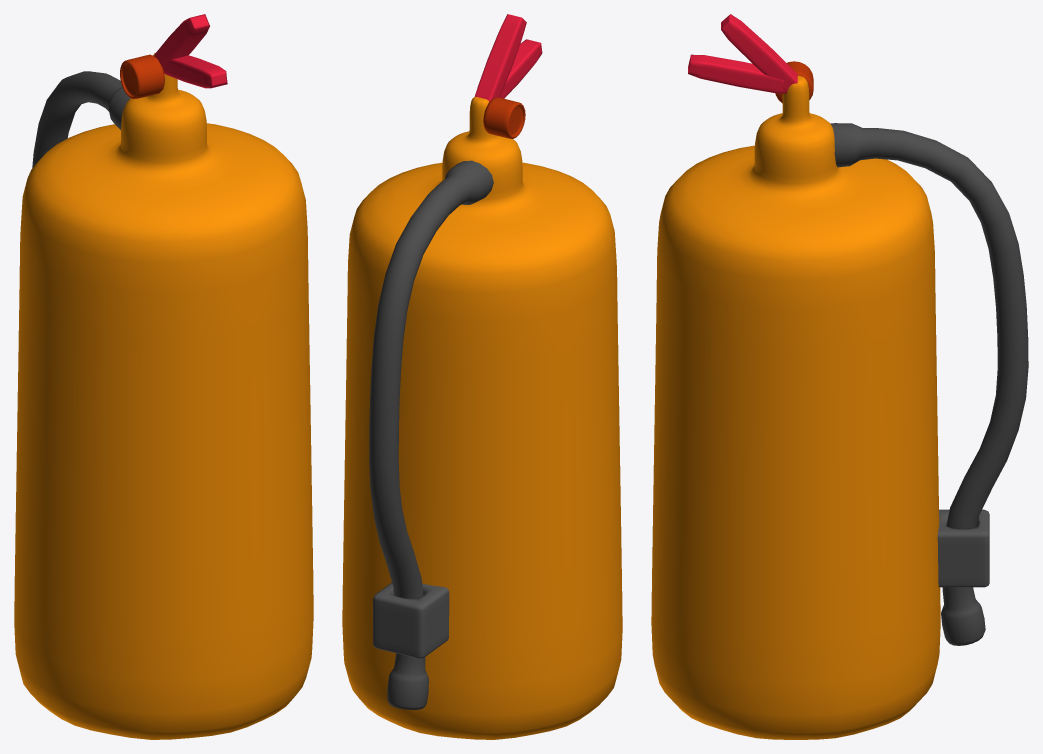
The model's file is yangın_tupu.fbx.
The picture shows the model from 3 angles, left to right: view 1: azimuth 30°, elevation 25°; view 2: azimuth 150°, elevation 25°; view 3: azimuth 270°, elevation 25°; orthographic projection. The views are drawn at different scales.
Parts seen in each view (by area): view 1: pCylinder1, sweep2, pCylinder2, pCube2, pCube1; view 2: pCylinder1, sweep2, polySurface2, pCube1, pCylinder2, pCube2; view 3: pCylinder1, sweep2, polySurface2, pCube2, pCube1.
Part boxes in pixels (x1=…): pCylinder1: x1=14, y1=53, x2=313, y2=739; sweep2: x1=32, y1=71, x2=130, y2=167; pCylinder2: x1=120, y1=54, x2=164, y2=99; pCube2: x1=163, y1=55, x2=227, y2=88; pCube1: x1=154, y1=14, x2=209, y2=67; pCylinder1: x1=342, y1=97, x2=622, y2=739; sweep2: x1=369, y1=160, x2=493, y2=709; polySurface2: x1=373, y1=582, x2=449, y2=658; pCube1: x1=474, y1=14, x2=526, y2=101; pCylinder2: x1=483, y1=97, x2=525, y2=138; pCube2: x1=500, y1=39, x2=542, y2=98; pCylinder1: x1=651, y1=75, x2=940, y2=739; sweep2: x1=830, y1=123, x2=1028, y2=645; polySurface2: x1=937, y1=509, x2=989, y2=587; pCube2: x1=688, y1=54, x2=786, y2=93; pCube1: x1=721, y1=14, x2=798, y2=91.
Size of the model in its own units: 9.03 by 23.39 by 11.76.
